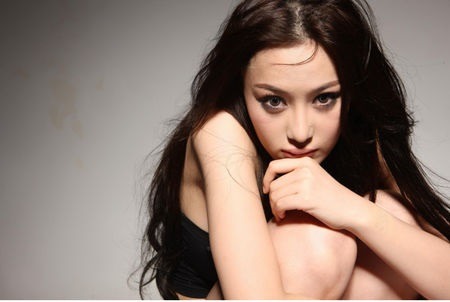face: (246, 44, 347, 169)
